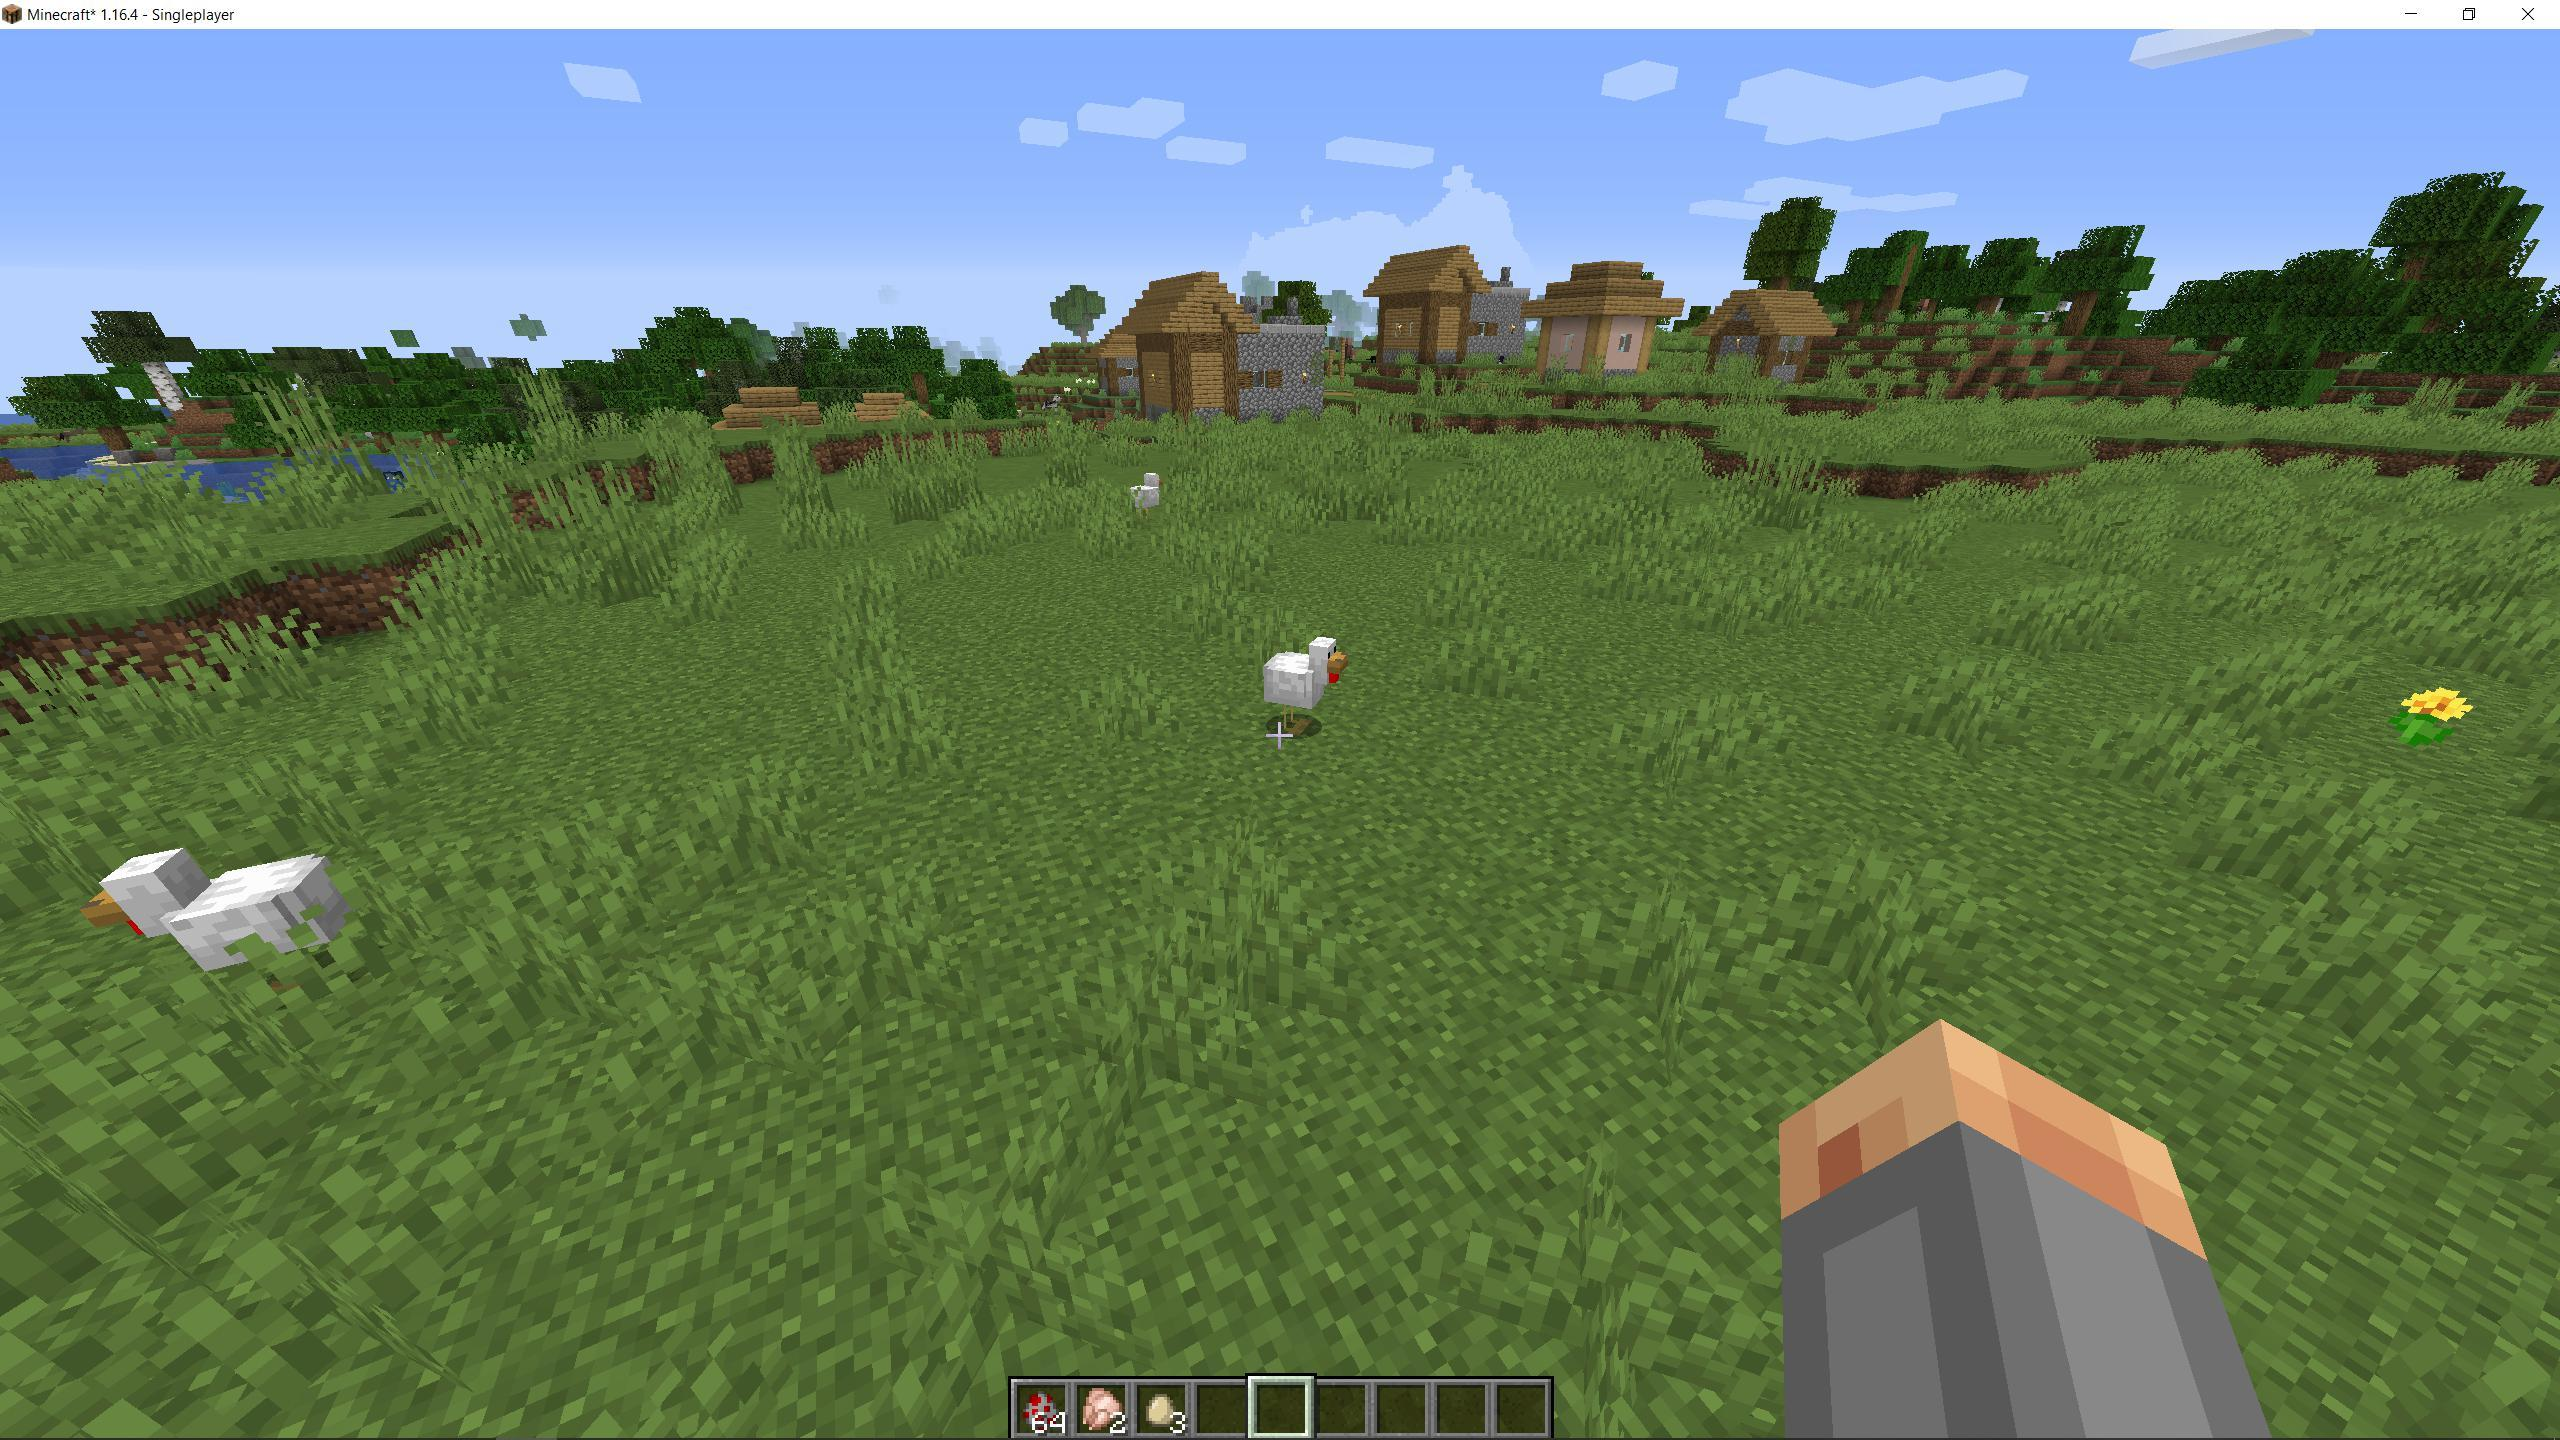chicken: (77, 826, 355, 1002), (1254, 628, 1364, 749), (1122, 469, 1171, 535)
